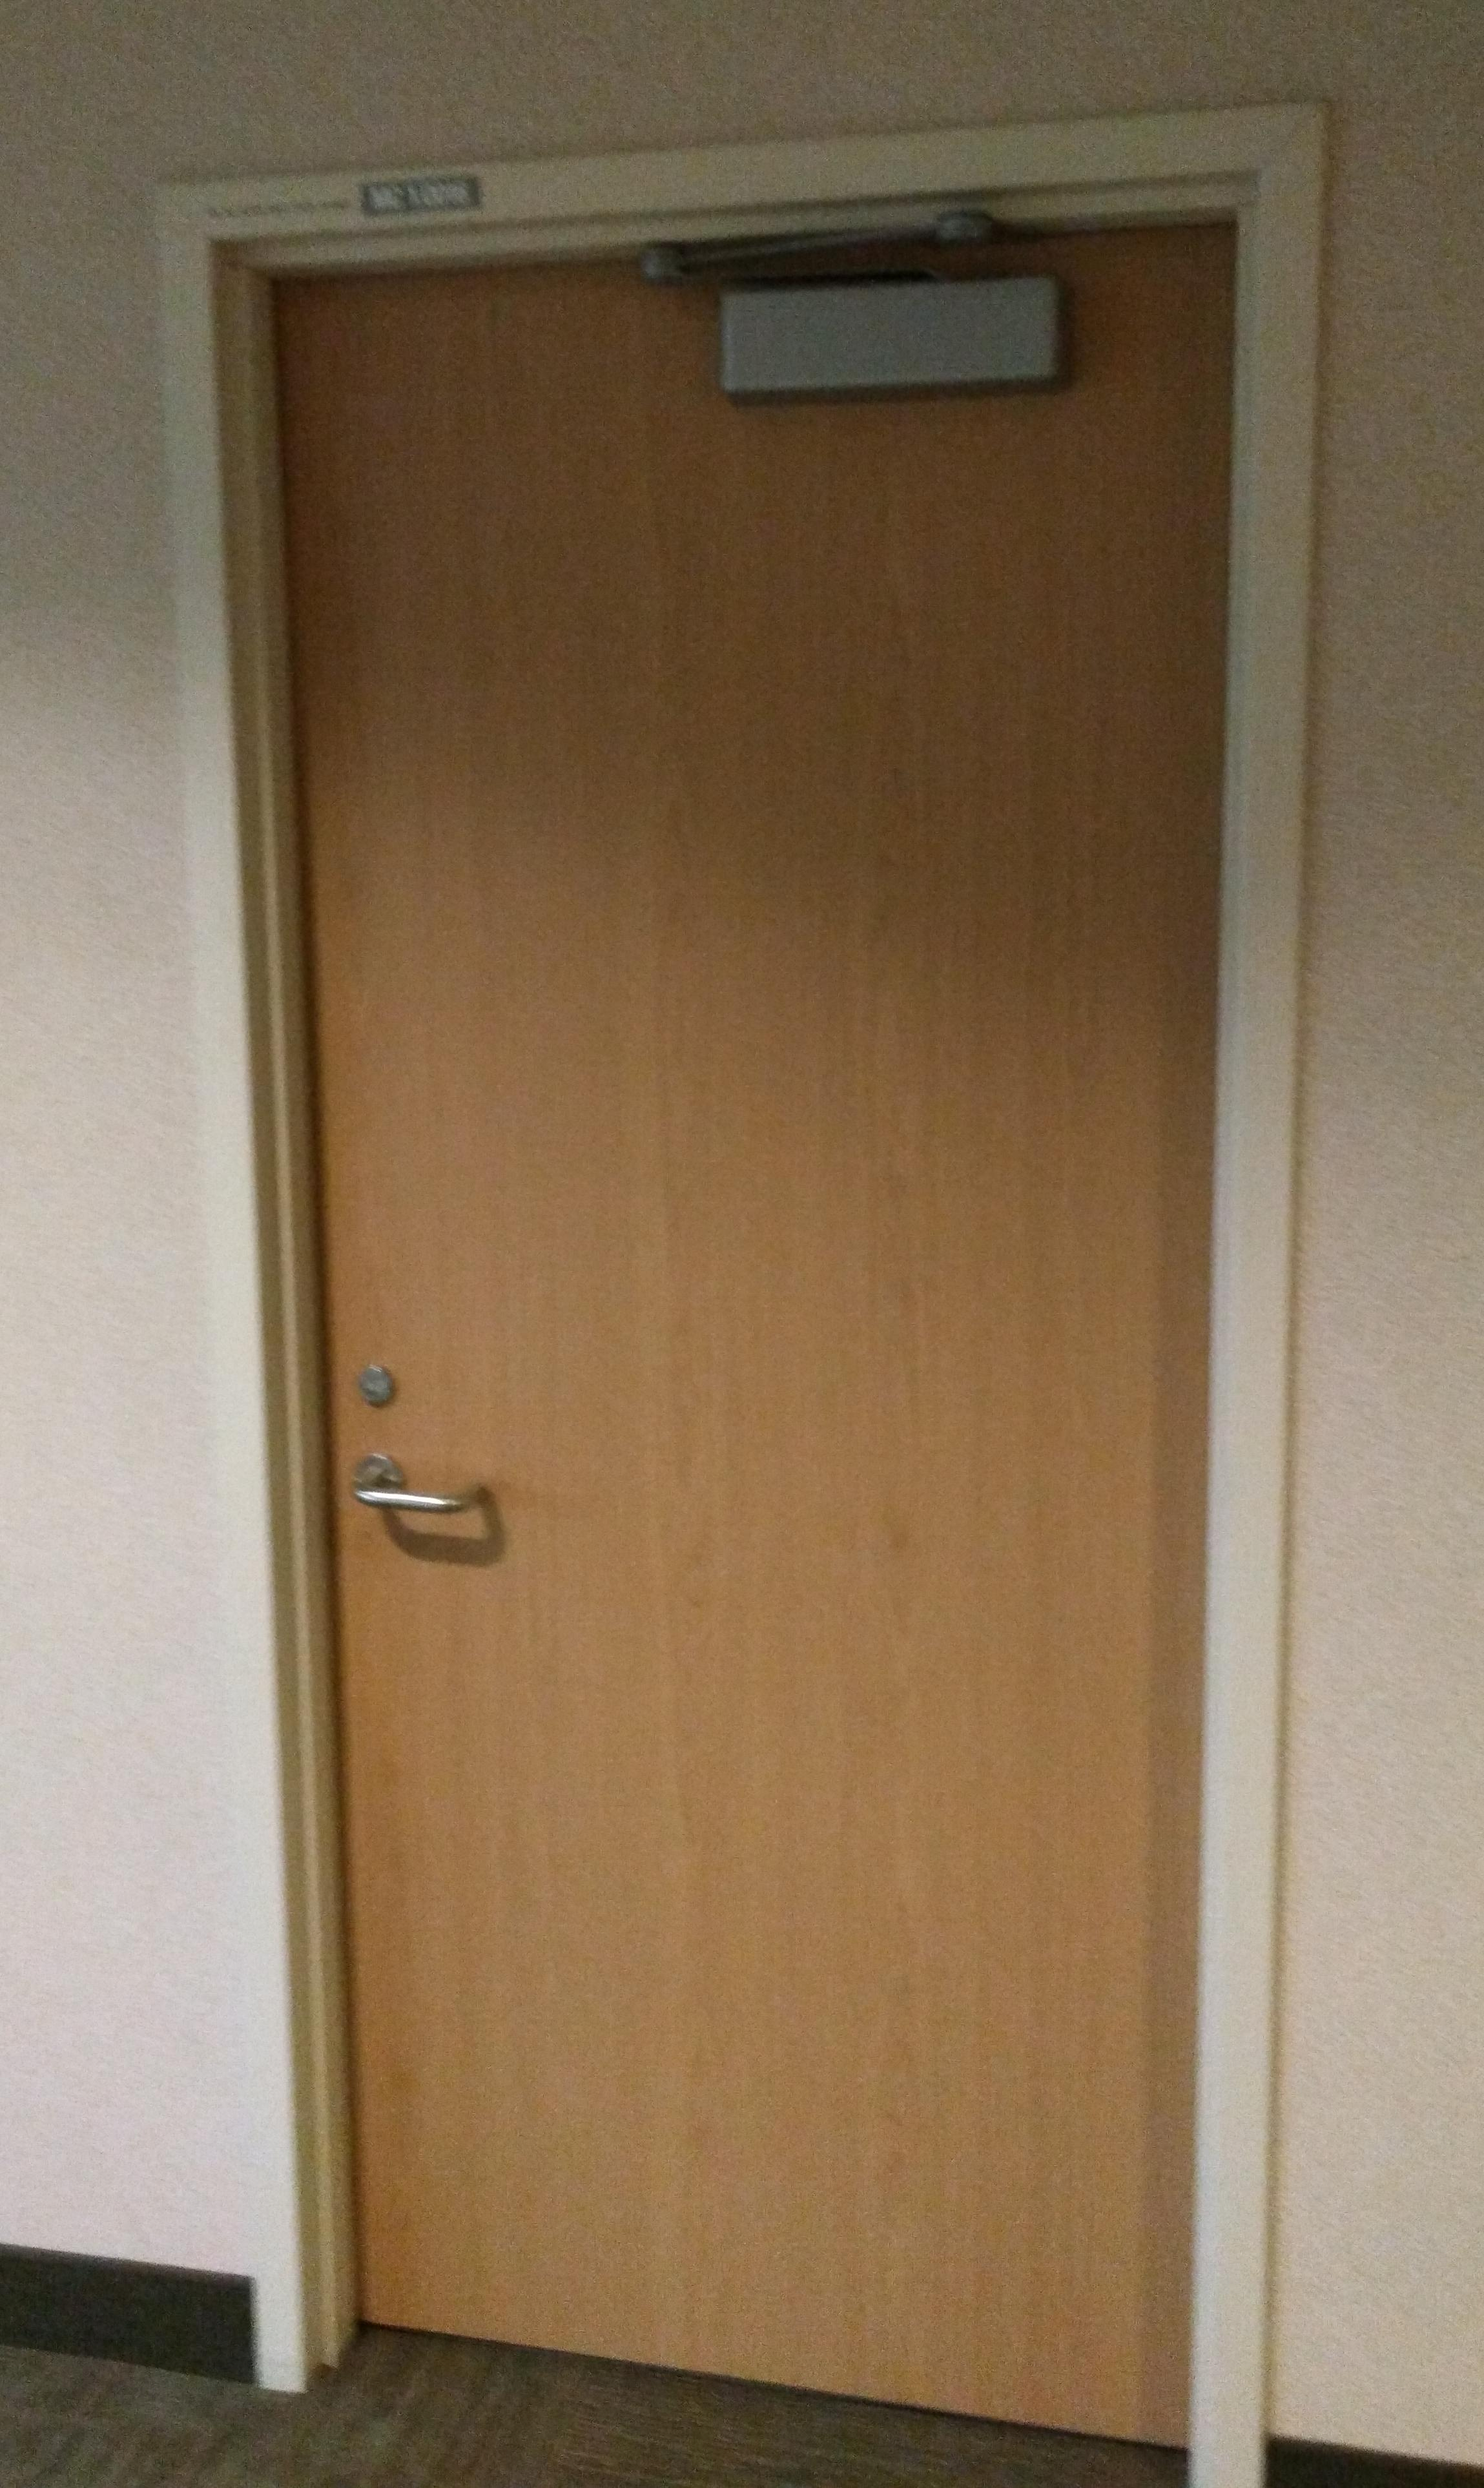door: (256, 173, 1270, 2488)
